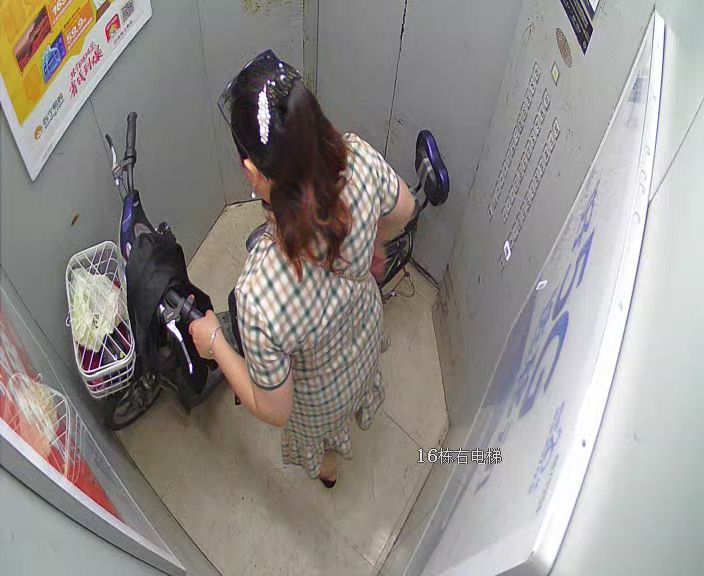Electric-bicycle: (65, 114, 450, 419)
